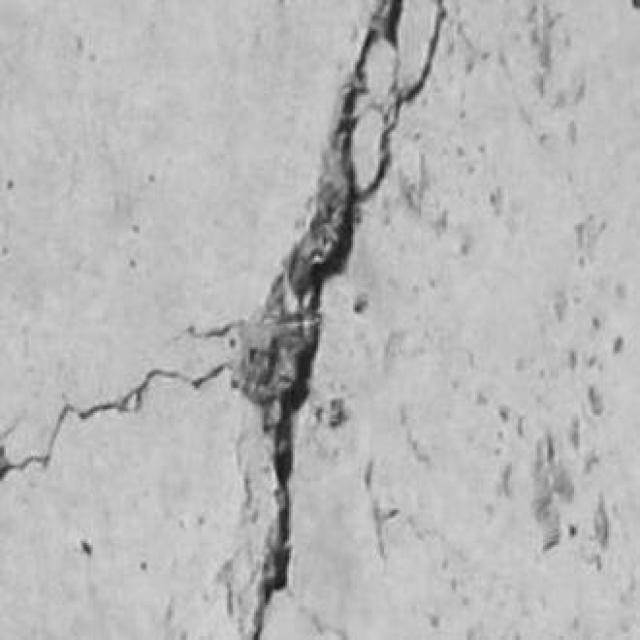crack: (0, 0, 446, 639), (235, 0, 446, 639), (0, 365, 228, 479), (365, 462, 399, 562)
